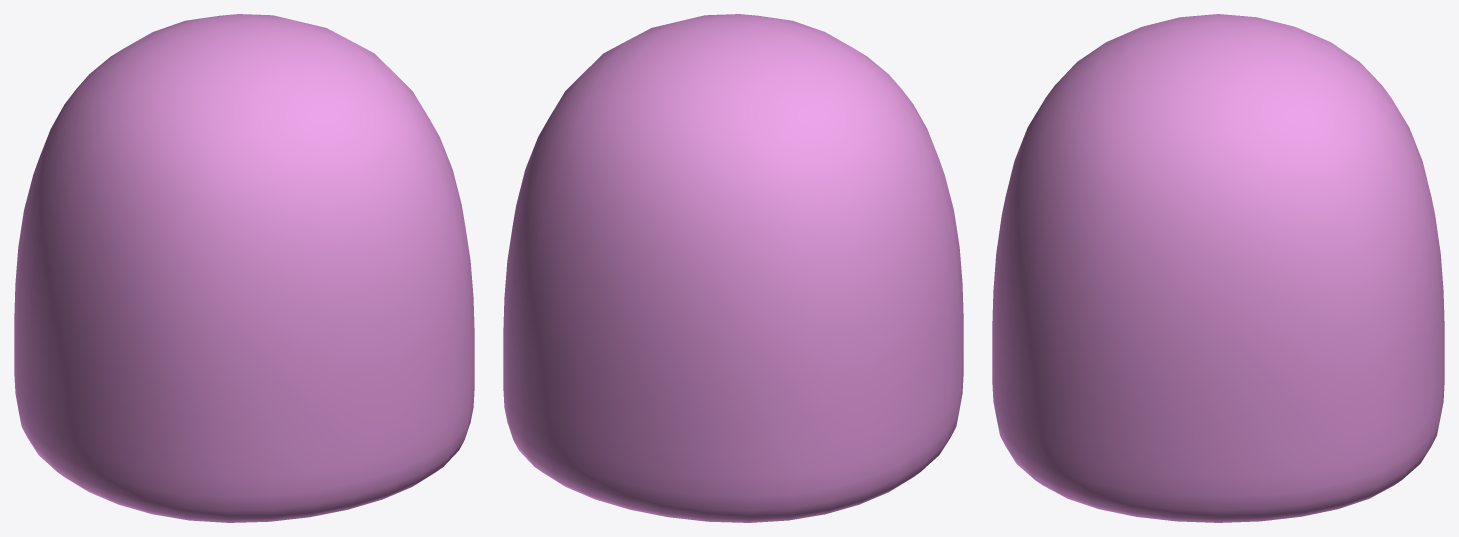
File: round.glb
3 views of the same model, side by side, from view 1: azimuth 30°, elevation 25°; view 2: azimuth 150°, elevation 25°; view 3: azimuth 270°, elevation 25° (orthographic).
Parts seen in each view (by area): view 1: Cube; view 2: Cube; view 3: Cube.
Boxes of the visible parts, x1,y1,x2,y2 form: Cube: (14, 14, 474, 522); Cube: (503, 14, 963, 522); Cube: (992, 14, 1444, 522).
Size of the model in its own units: 1.83 by 1.84 by 1.83.
